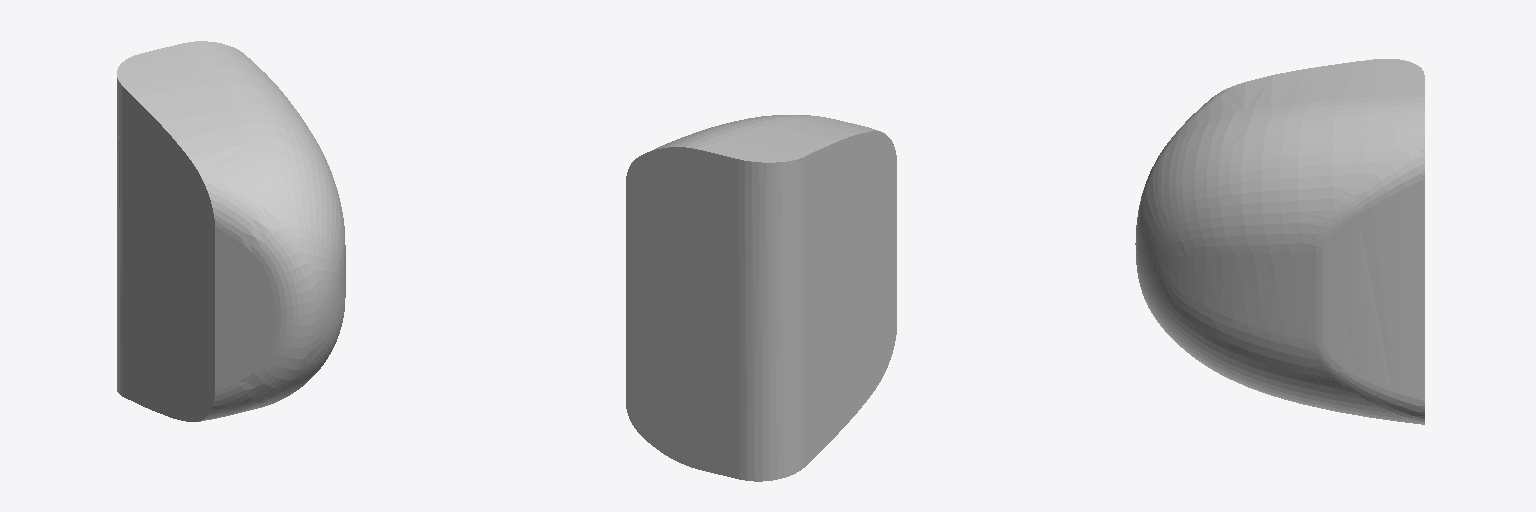
File: ll_dg_3_tip_c_mesh_World_mesh.obj
3 views of the same model, side by side, from view 1: azimuth 30°, elevation 25°; view 2: azimuth 150°, elevation 25°; view 3: azimuth 270°, elevation 25° (orthographic).
Size of the model in its own units: 0.012 by 0.0215 by 0.0176.